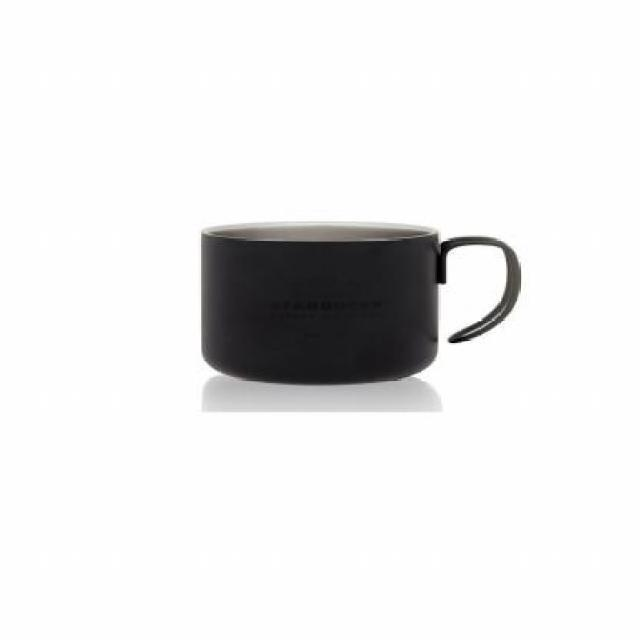taza: (204, 220, 526, 388)
